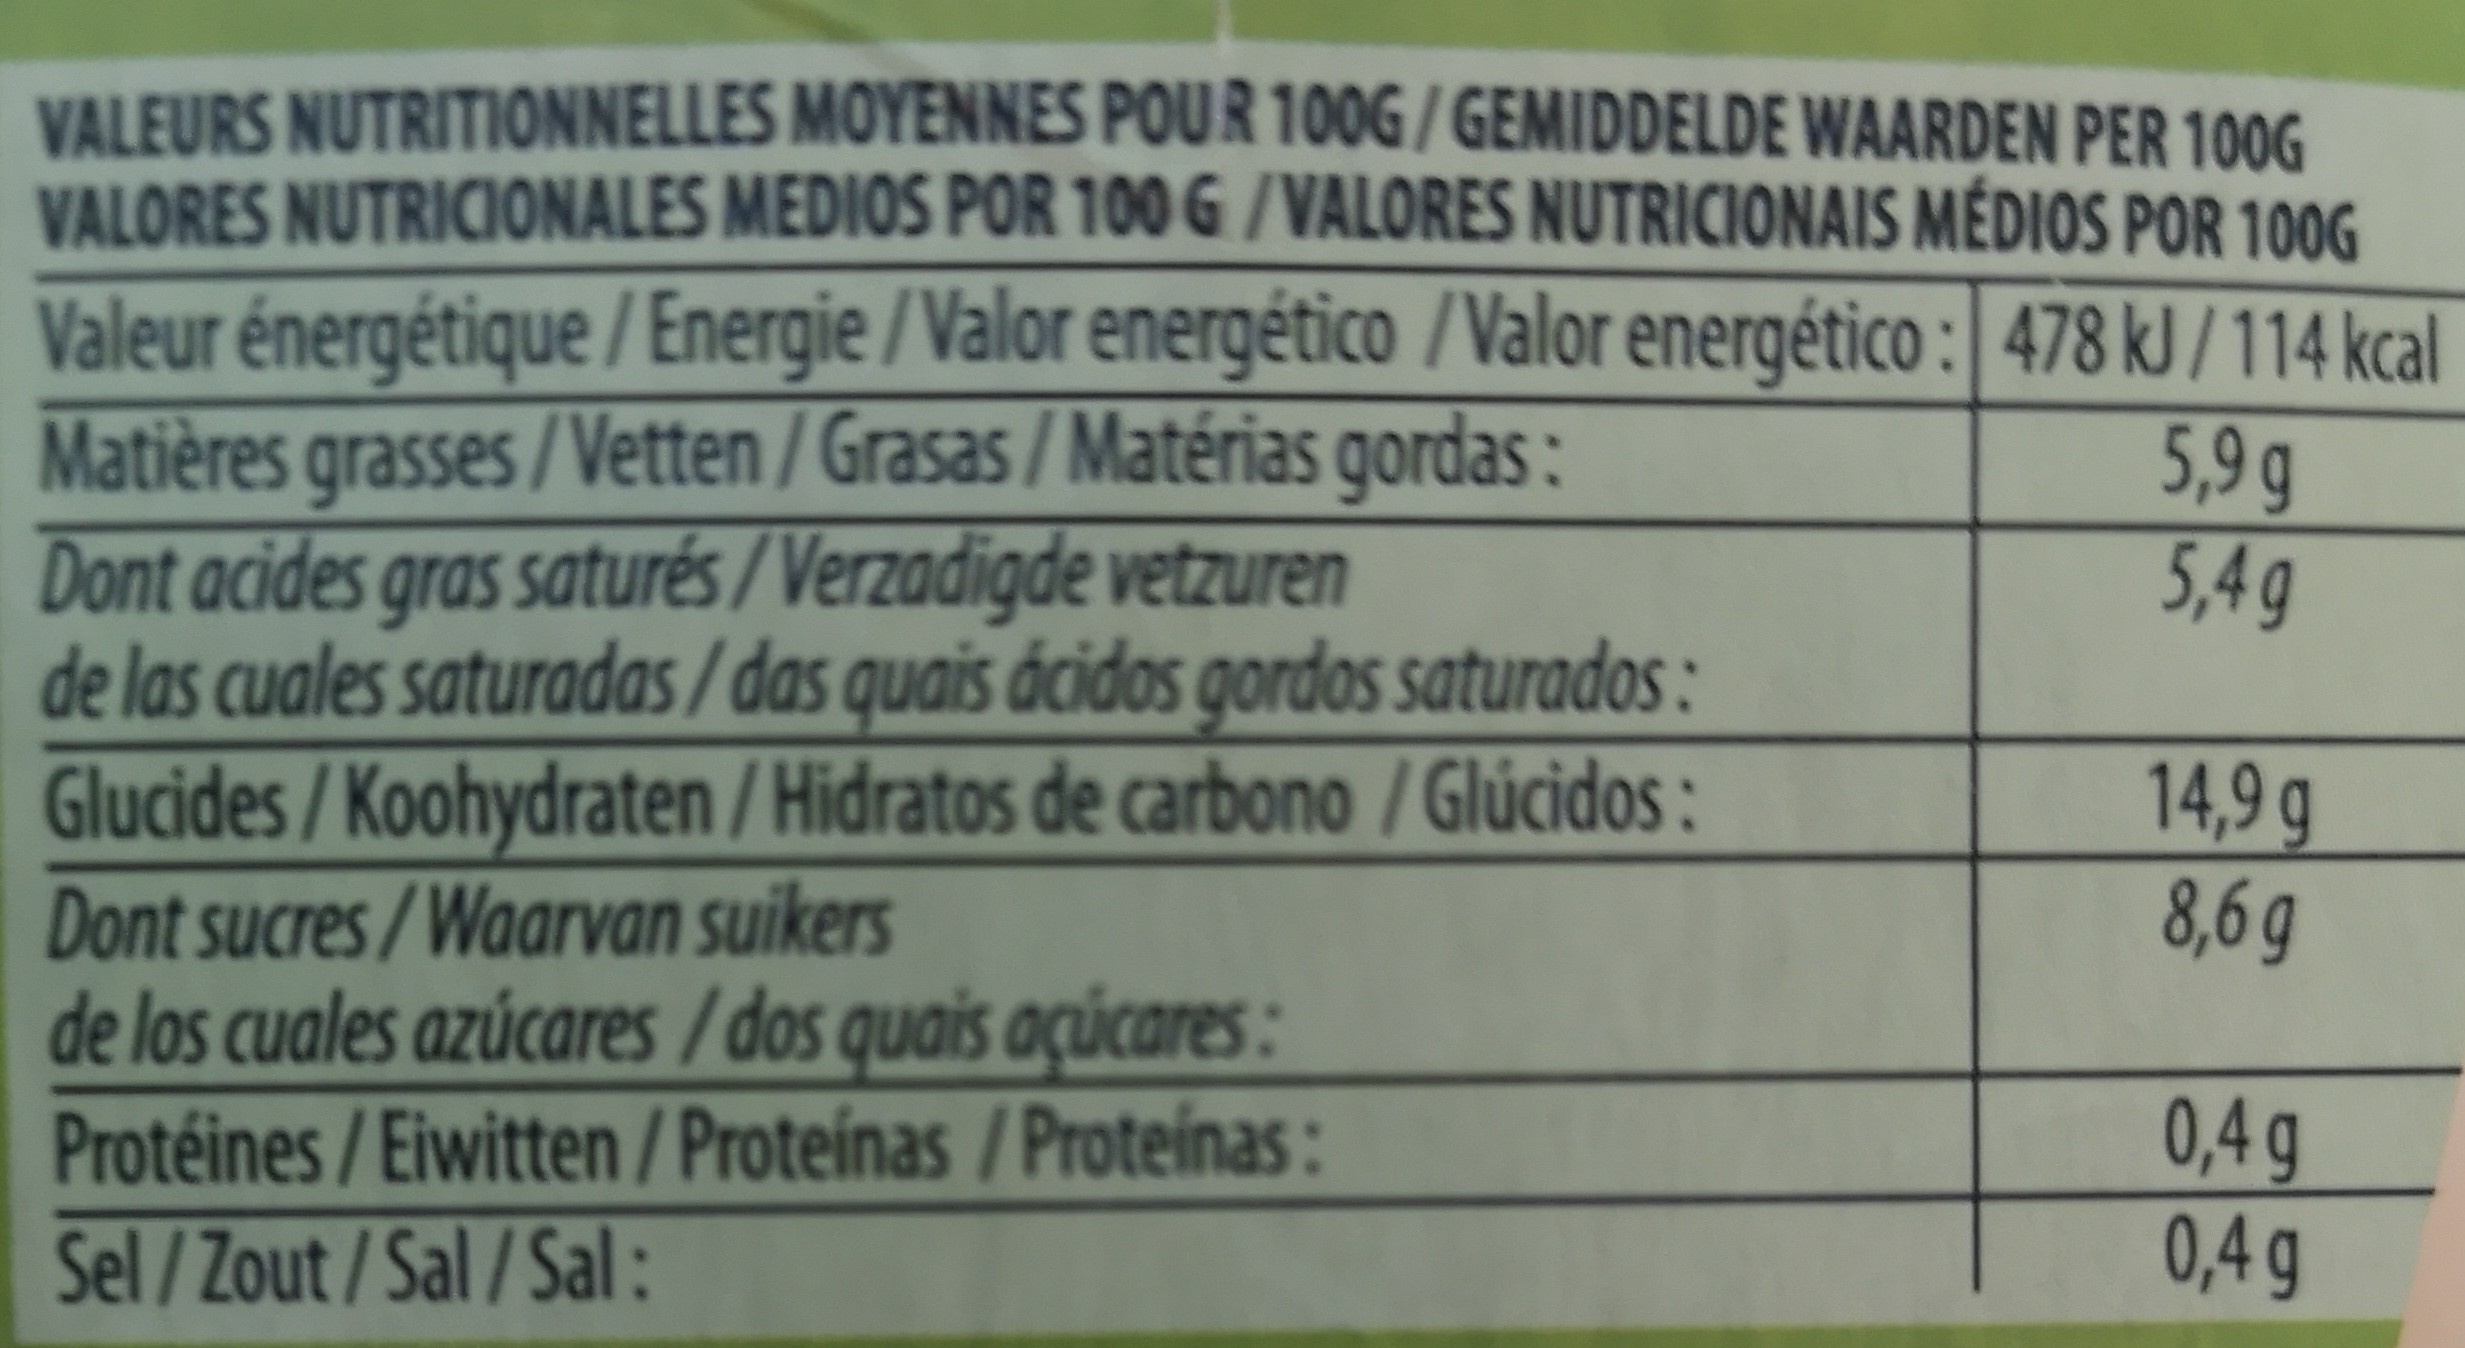column: (38, 292, 1950, 1303), (2007, 300, 2437, 1303)
table: (25, 81, 2447, 1315)
